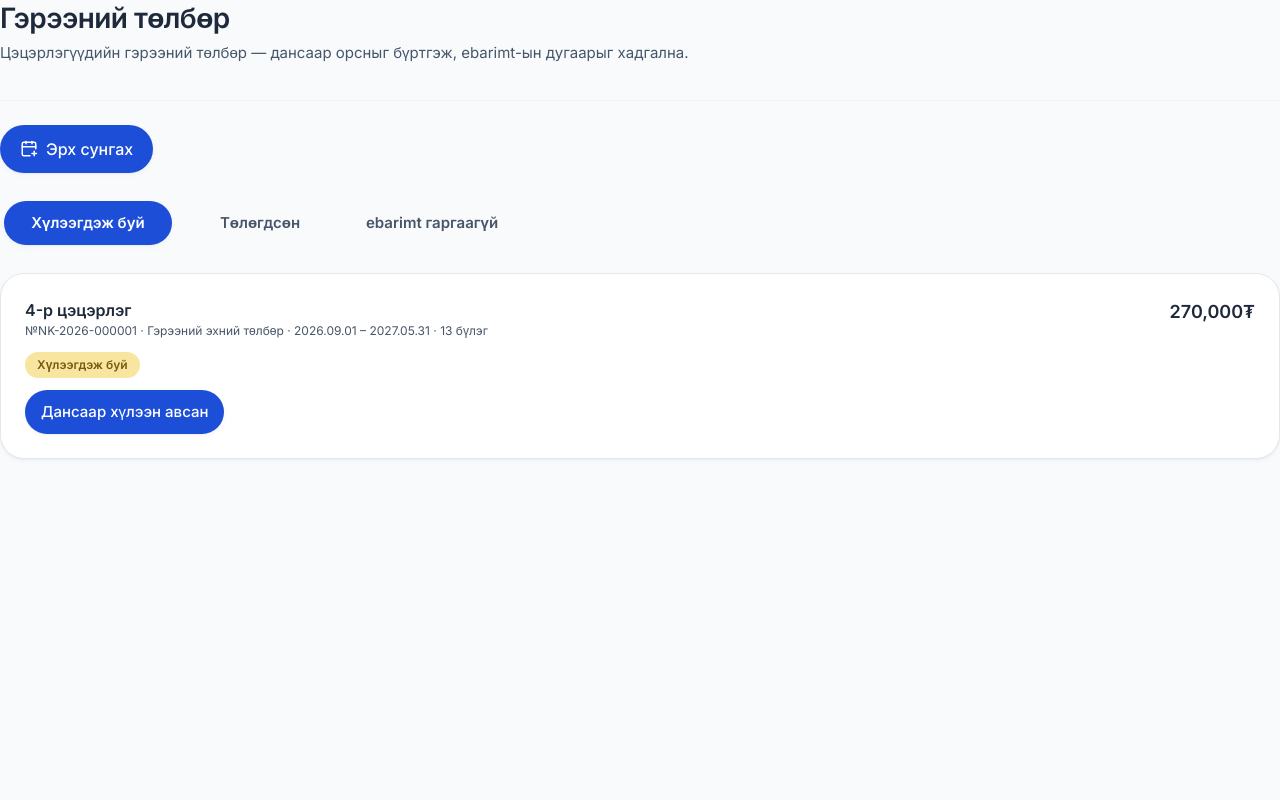
the operator's contract payments › records a transfer seen on the statement
The width and height of the screenshot is (1280, 800).
Expected: the text "4-р цэцэрлэг" is shown, [25, 300, 132, 320]
Expected: the text "270,000₮" is shown, [1170, 298, 1255, 325]
Click the button "Дансаар хүлээн авсан": (125,412) [25, 390, 224, 434]
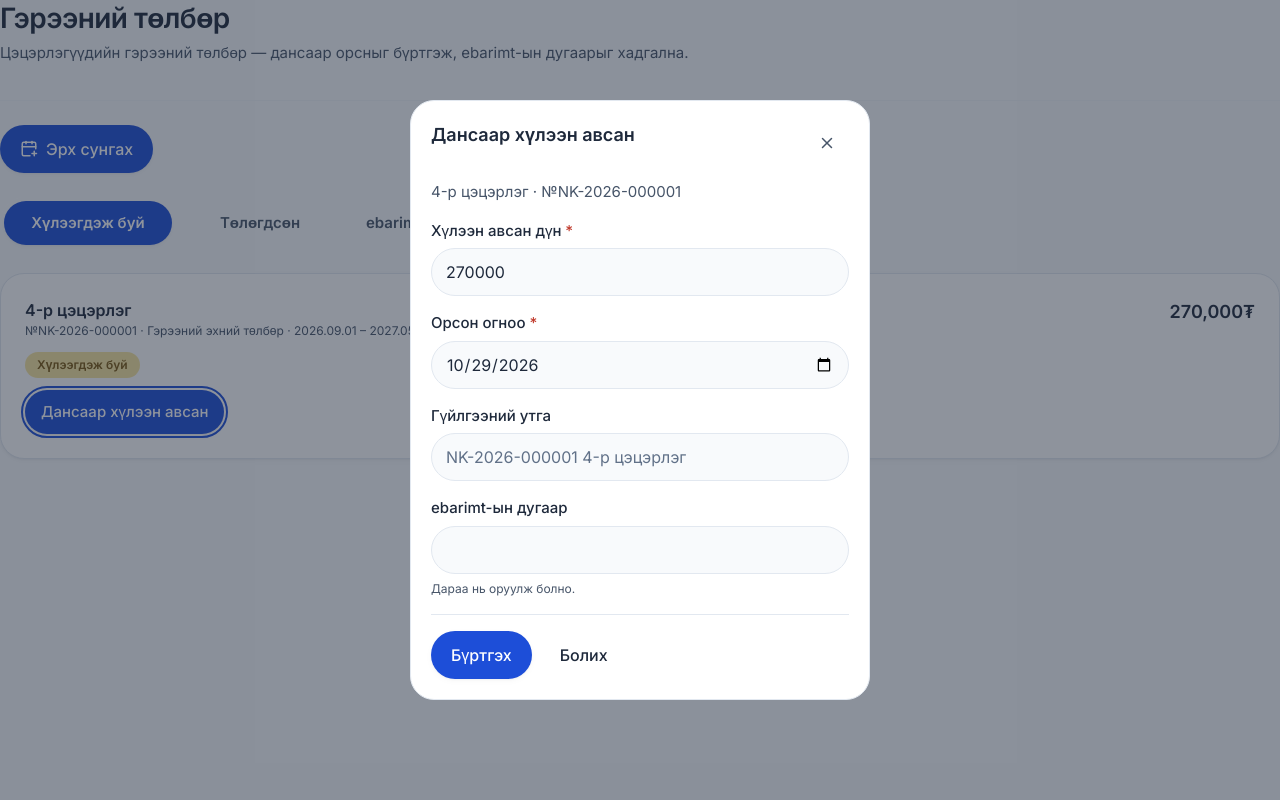
Expected: the field labelled "Хүлээн авсан дүн *" holds "270000", [431, 248, 849, 296]
In the field labelled "Гүйлгээний утга": (640,457) [431, 433, 849, 481], type "NK-2026-000001"
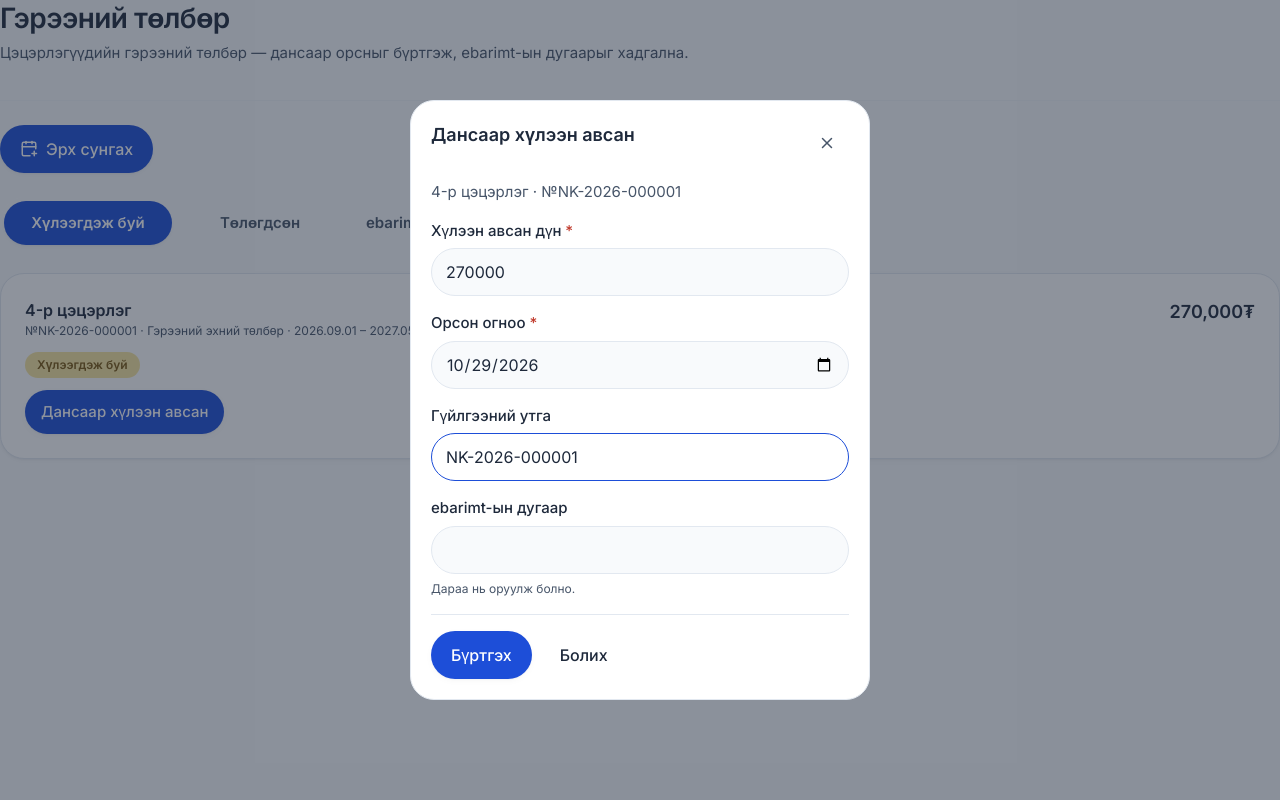
In the field labelled "ebarimt-ын дугаар": (640,550) [431, 526, 849, 574], type "EB-1"
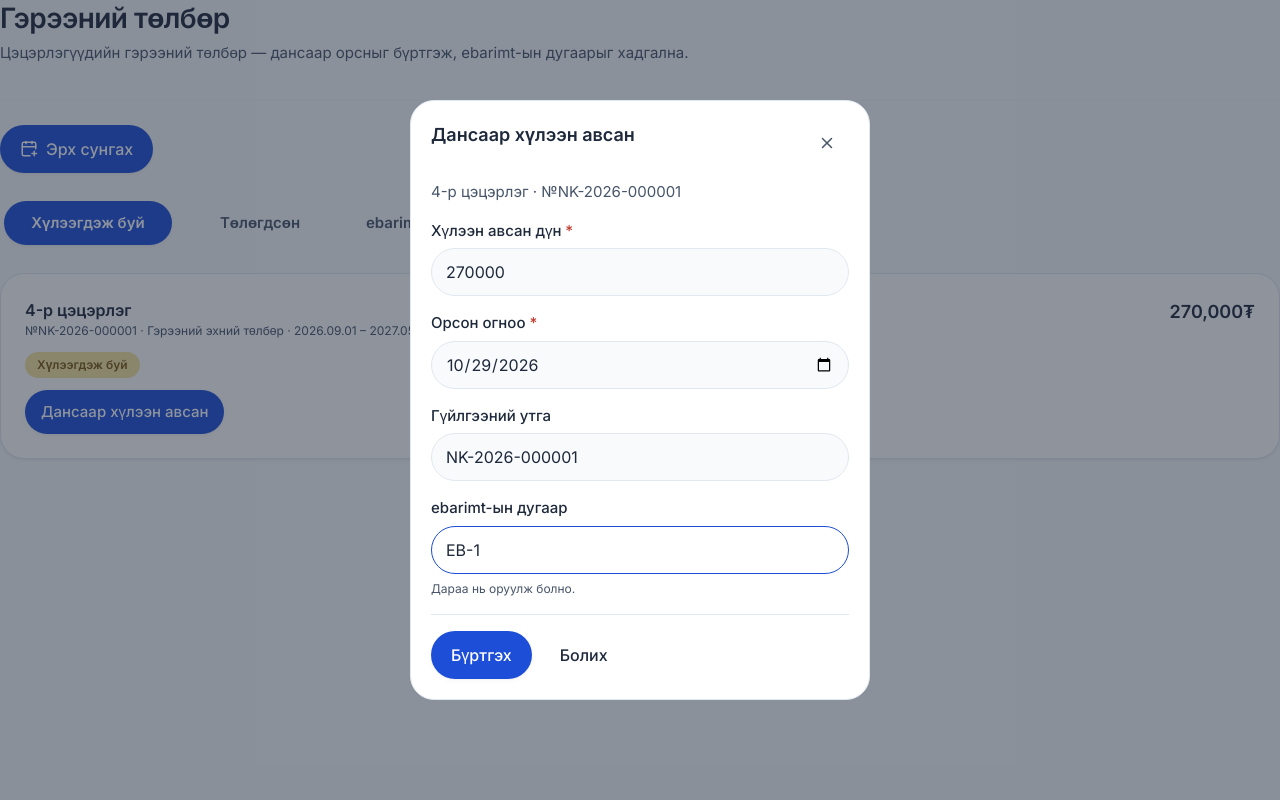
Click the button "Бүртгэх": (481,655) [431, 631, 532, 679]
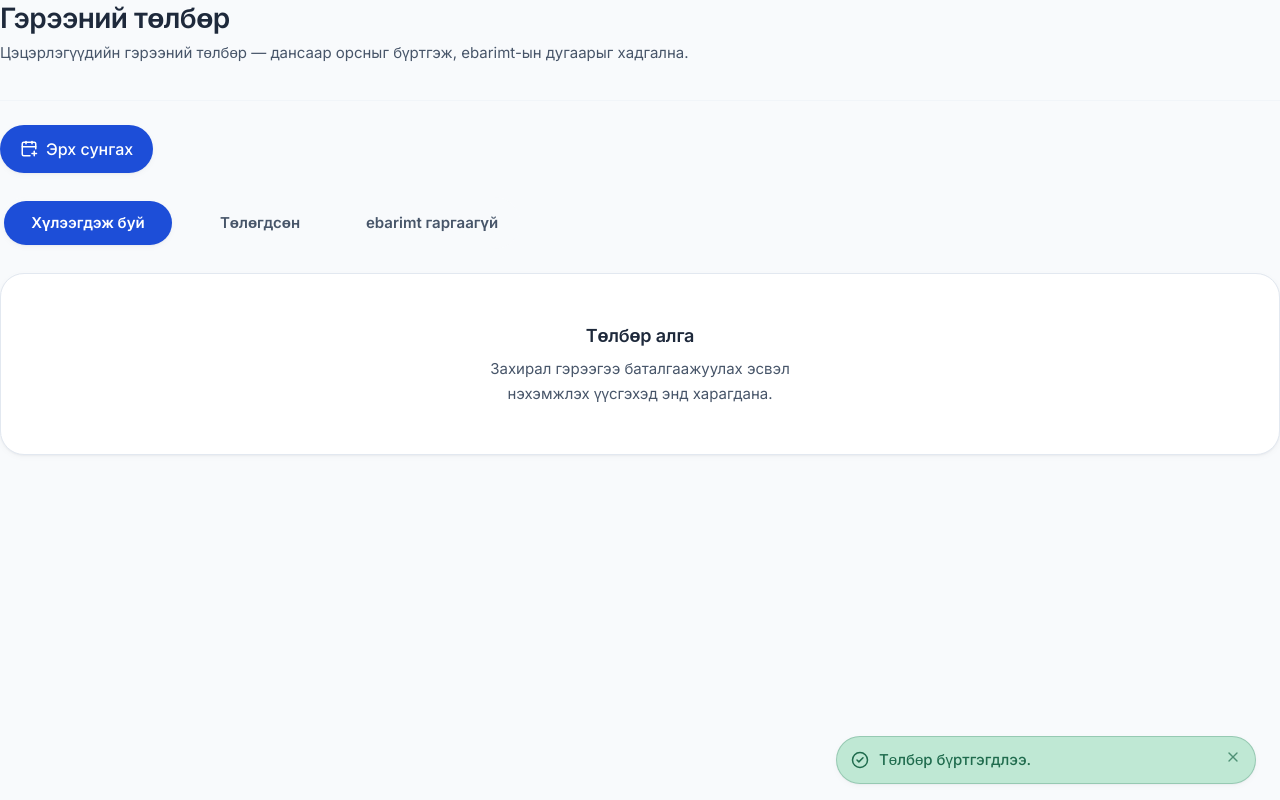
Expected: the text "Төлбөр бүртгэгдлээ." is shown, [879, 750, 1031, 768]
